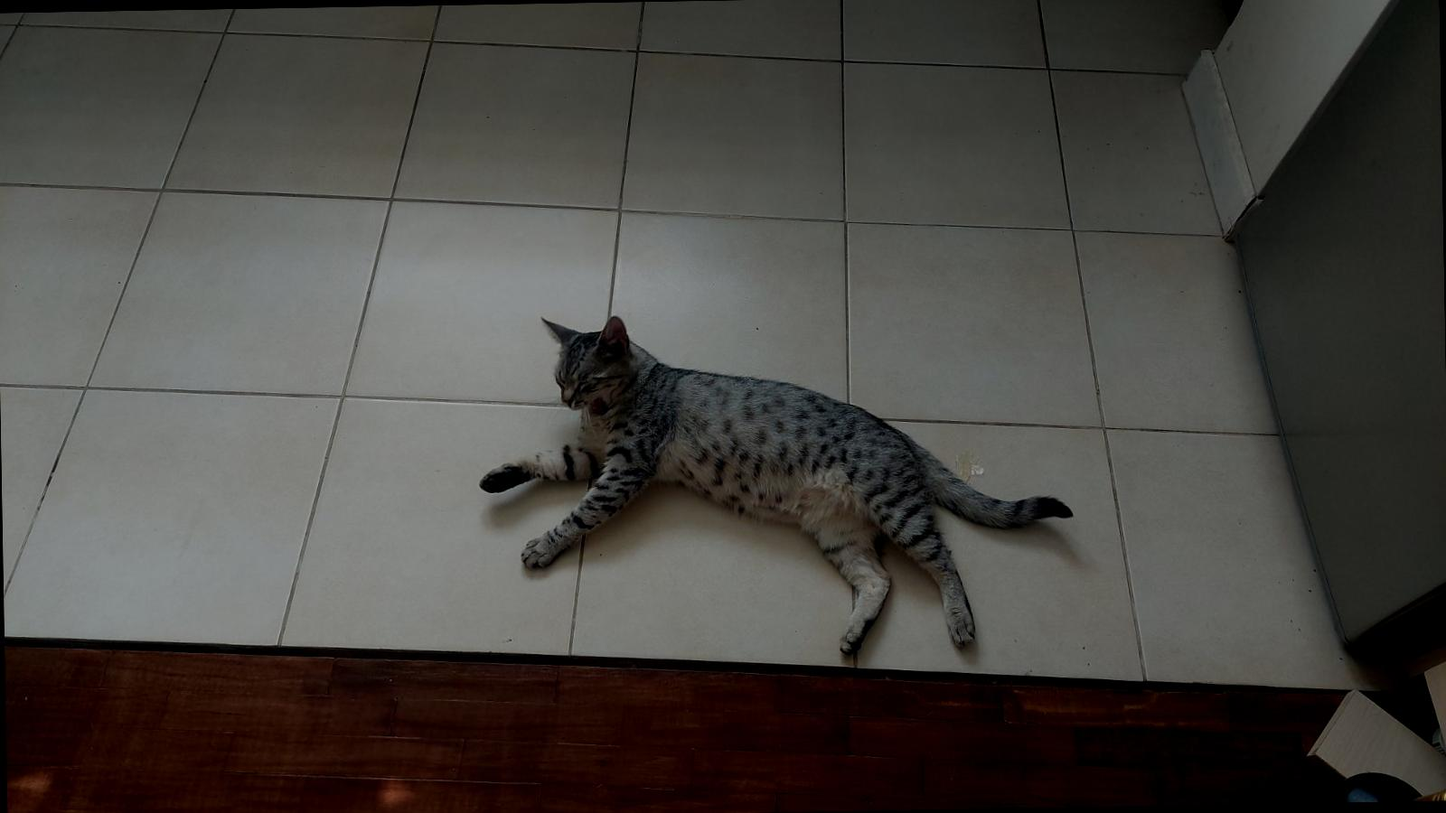macka: (477, 307, 1078, 662)
